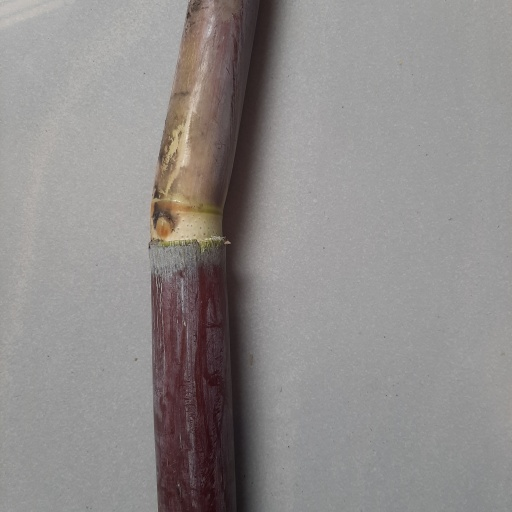Bud: (153, 213, 174, 240)
